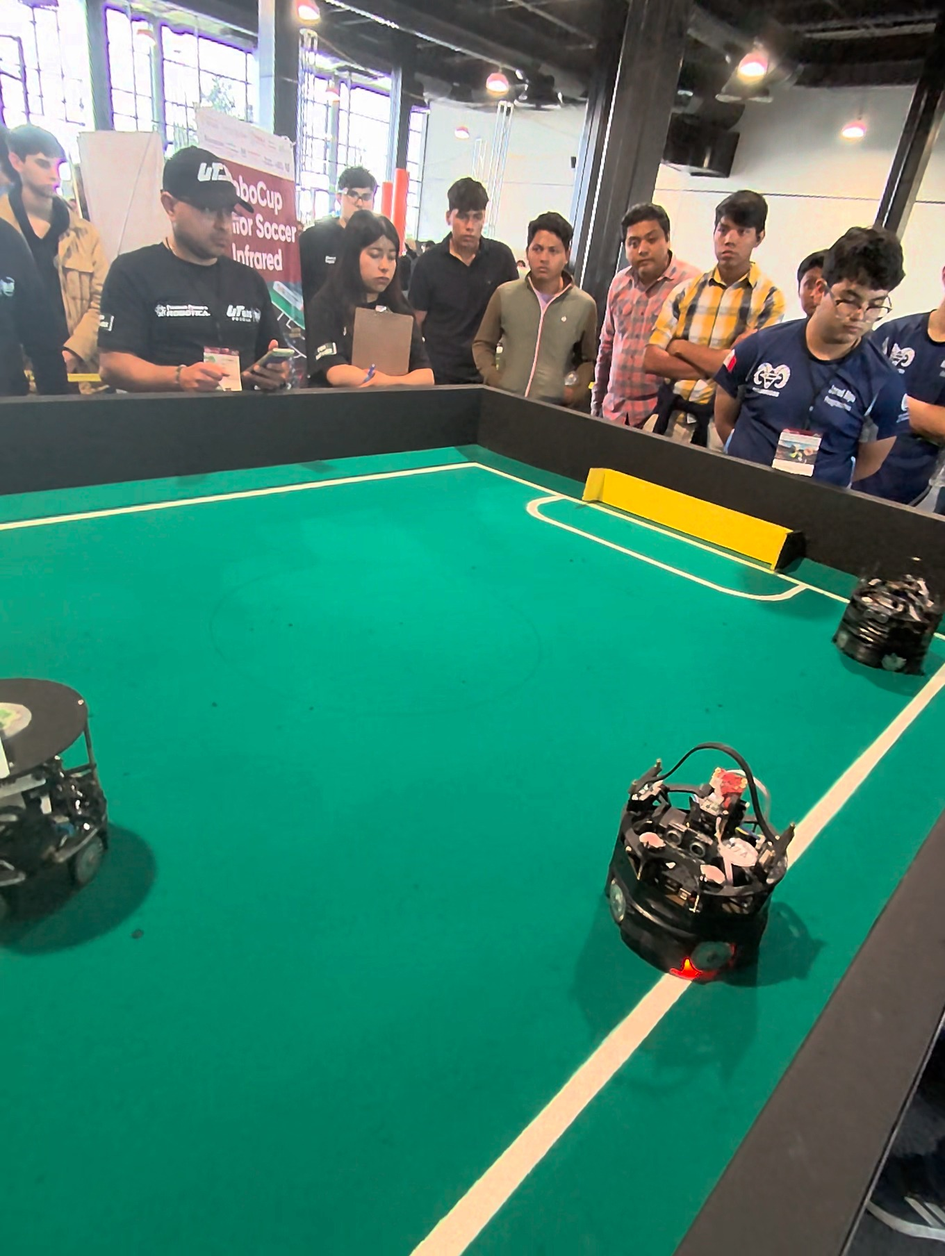Robot: (607, 732, 798, 997), (0, 647, 130, 951), (838, 551, 945, 684)
